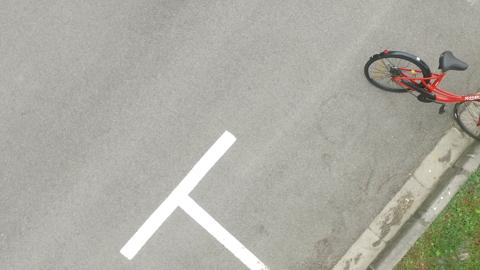bike: (352, 41, 469, 137)
